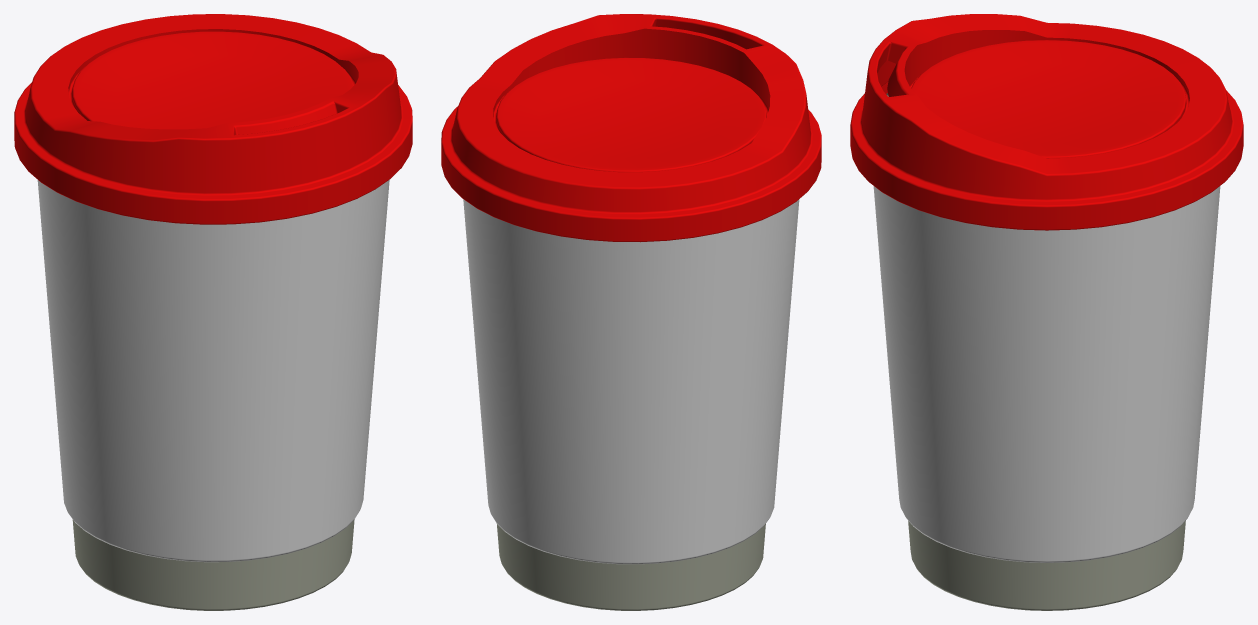
Rendered from CupCoffe.fbx.
The picture shows the model from 3 angles, left to right: view 1: azimuth 30°, elevation 25°; view 2: azimuth 150°, elevation 25°; view 3: azimuth 270°, elevation 25°; orthographic projection. The views are drawn at different scales.
Visible parts, largest first — view 1: Cup_Base, Cup_Top; view 2: Cup_Base, Cup_Top; view 3: Cup_Base, Cup_Top.
Part boxes in pixels (x1,y1,x2,y2): Cup_Base: [37, 180, 389, 610]; Cup_Top: [14, 14, 412, 224]; Cup_Base: [463, 199, 799, 610]; Cup_Top: [441, 14, 821, 242]; Cup_Base: [873, 93, 1220, 610]; Cup_Top: [850, 14, 1243, 230].
Size of the model in its own units: 12.58 by 17.12 by 12.58.
